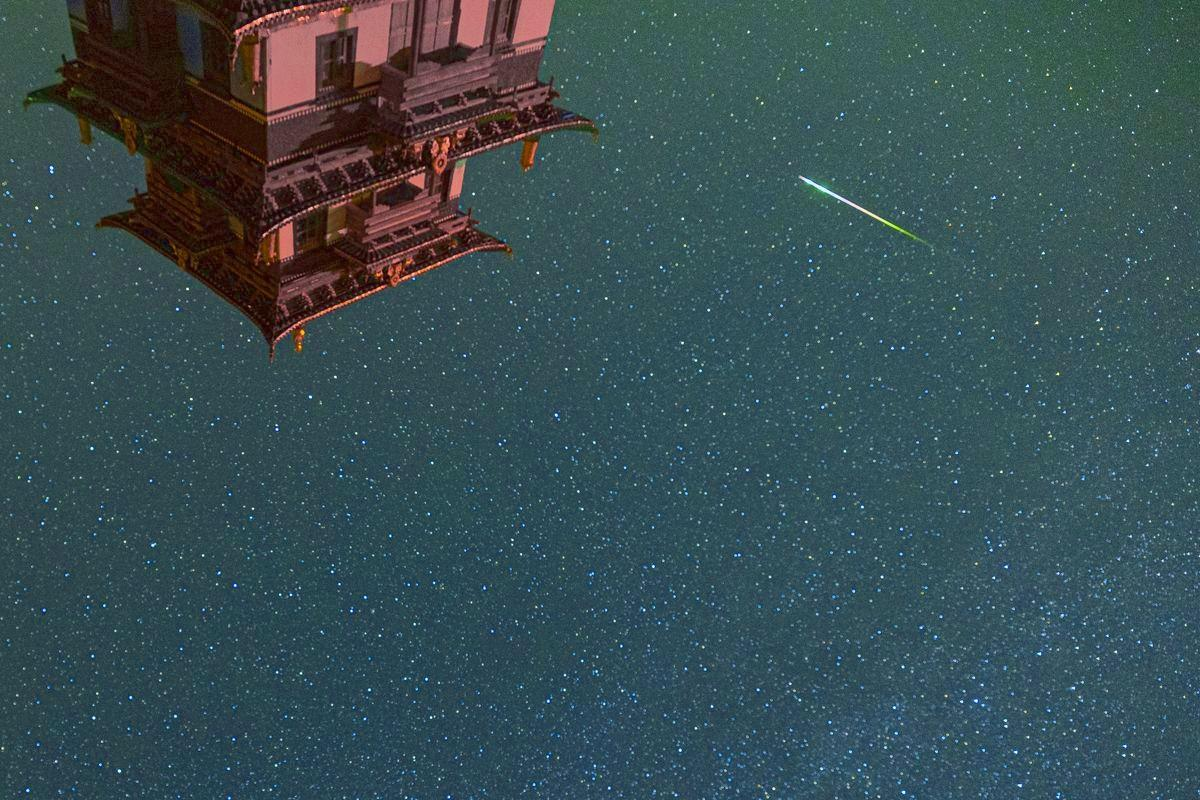meteorite: (765, 167, 954, 262)
